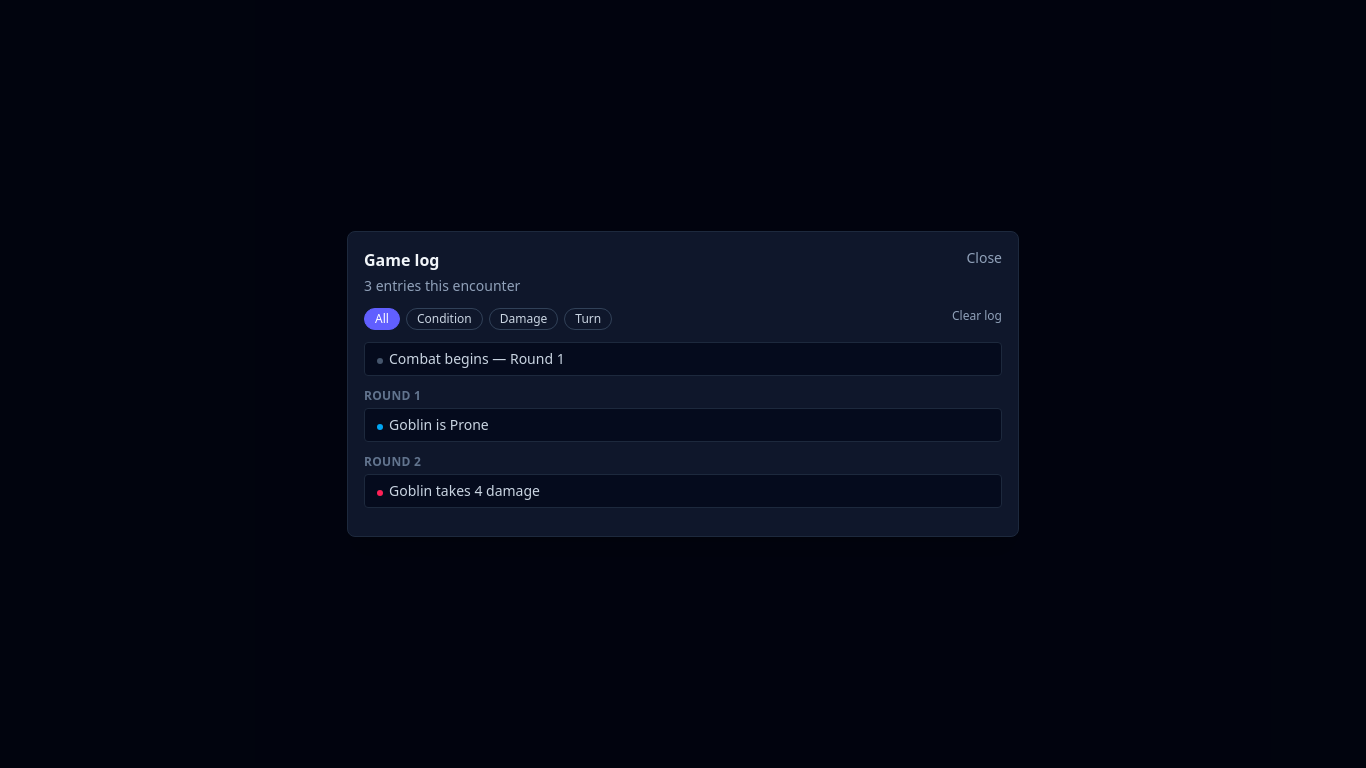
Test: GameLogModal › groups entries by round and filters by category
expect the heading "Round 1" is shown: met, box [364, 387, 421, 404]
expect the heading "Round 2" is shown: met, box [364, 453, 421, 470]
Click the button "Condition".
click(444, 319)  # box [406, 308, 483, 330]
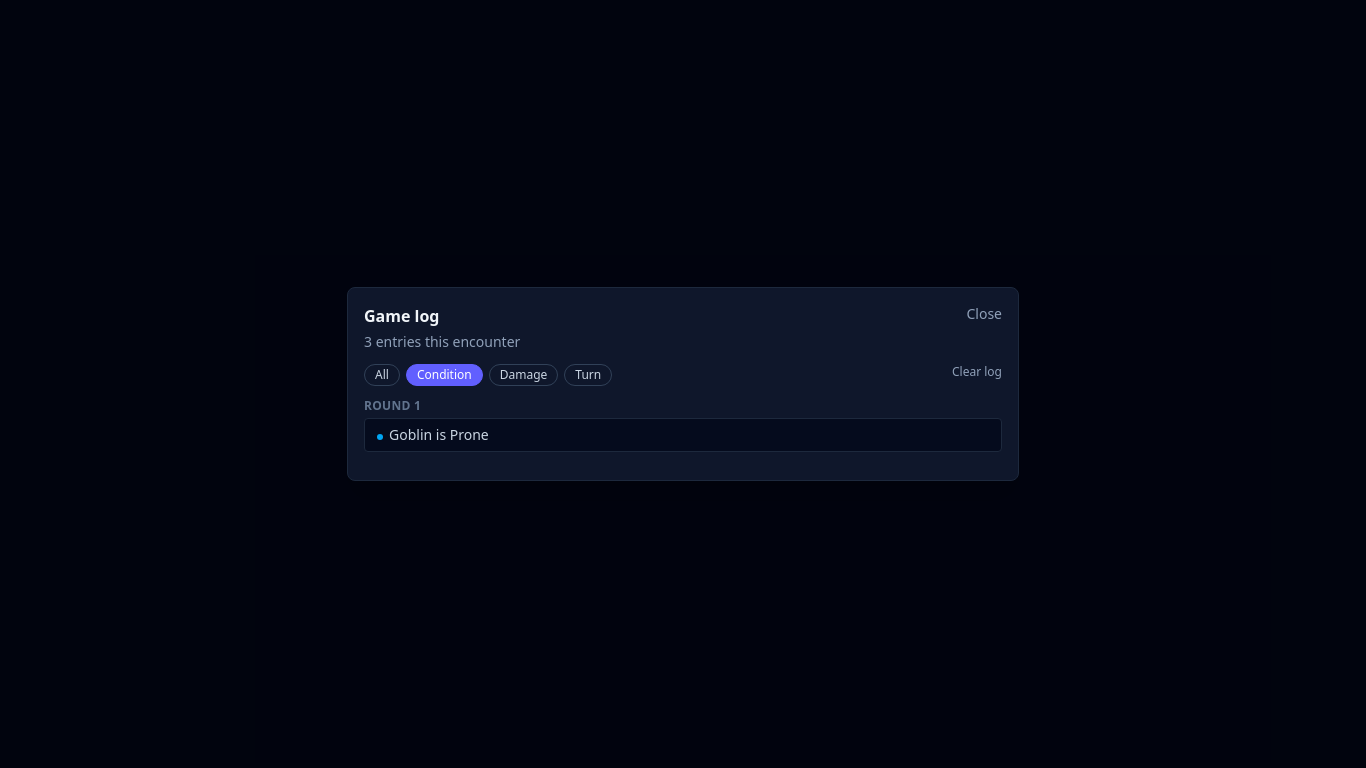
expect the text "Goblin is Prone" is shown: met, box [389, 425, 489, 445]
expect the text "Goblin takes 4 damage" is gone: met
